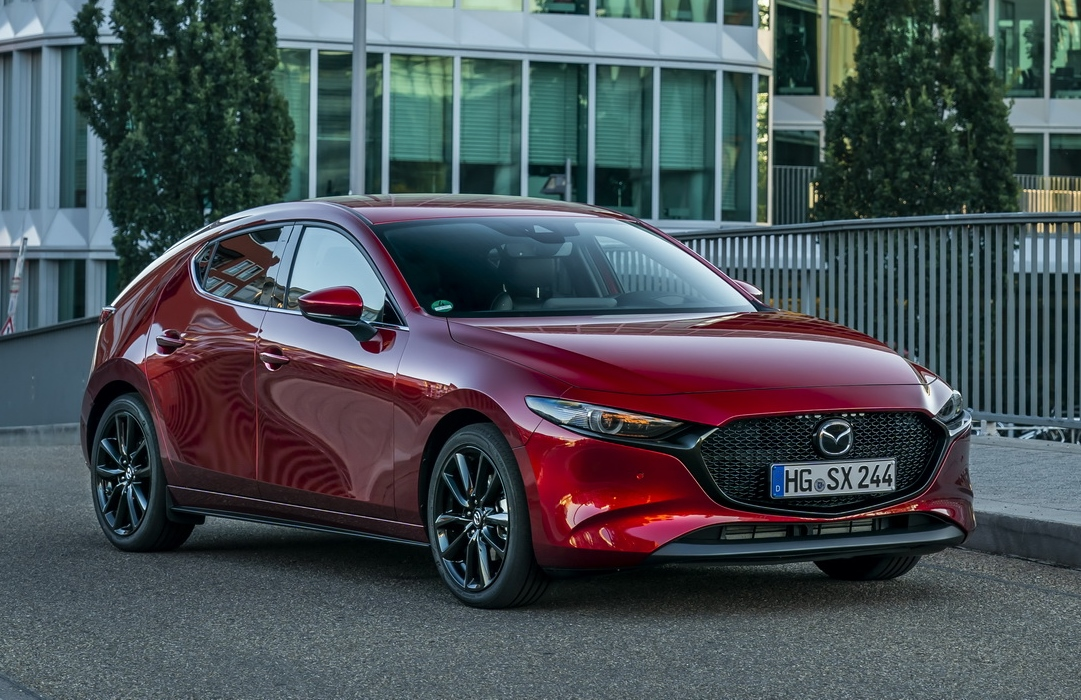sedan: (76, 186, 982, 608)
